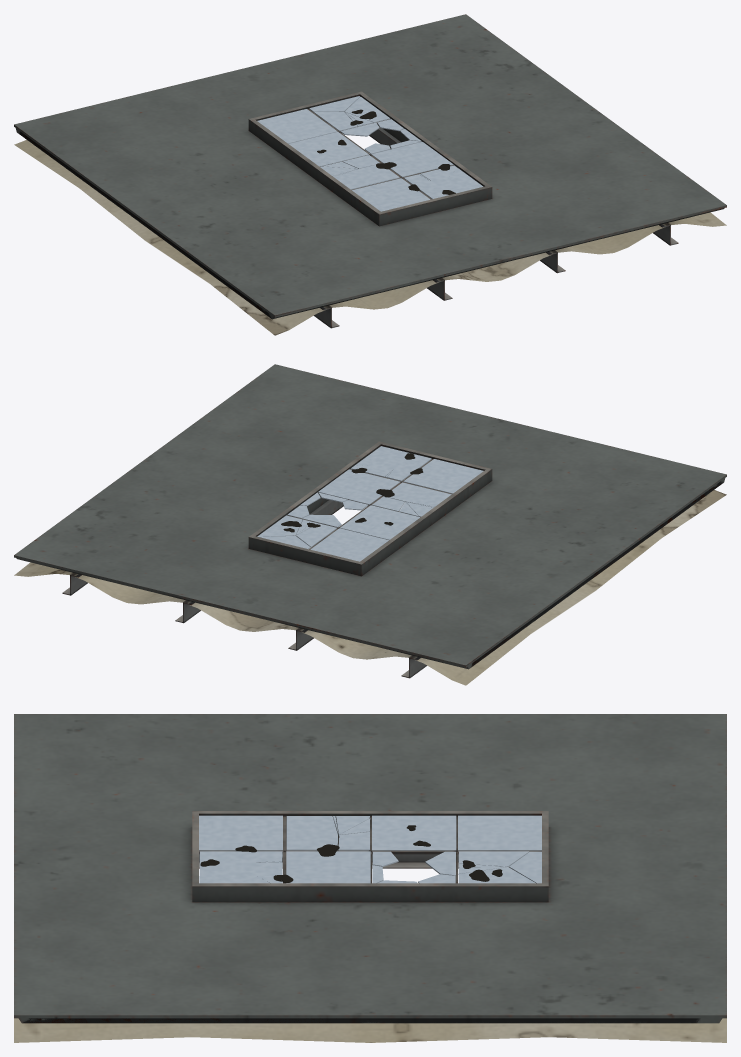
Rendered from roof_skylight.fbx.
3 views of the same model, one above another, from view 1: azimuth 30°, elevation 25°; view 2: azimuth 150°, elevation 25°; view 3: azimuth 270°, elevation 25° (orthographic). The views are drawn at different scales.
Visible parts, largest first — view 1: Body, Glow; view 2: Body, Glow; view 3: Body, Glow.
Boxes of the visible parts, bbox=[...] form: Body: bbox=[14, 14, 726, 335]; Glow: bbox=[257, 96, 483, 211]; Body: bbox=[14, 364, 726, 685]; Glow: bbox=[257, 446, 483, 561]; Body: bbox=[14, 714, 726, 1042]; Glow: bbox=[199, 815, 541, 883].
Size of the model in its own units: 32 by 2.6 by 32.
1 material, 1 textured.
